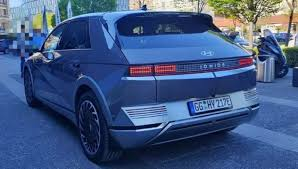Honda Ioniq: (13, 1, 268, 163)
